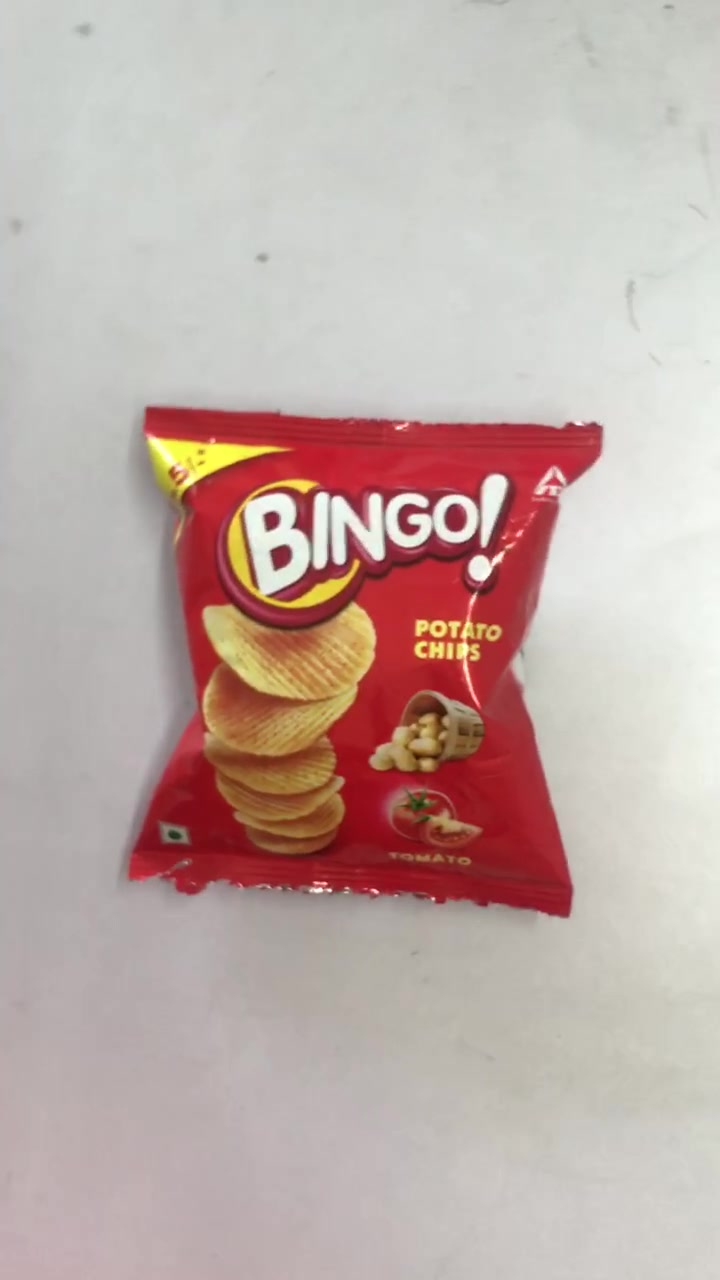Bingo: (141, 409, 598, 914)
